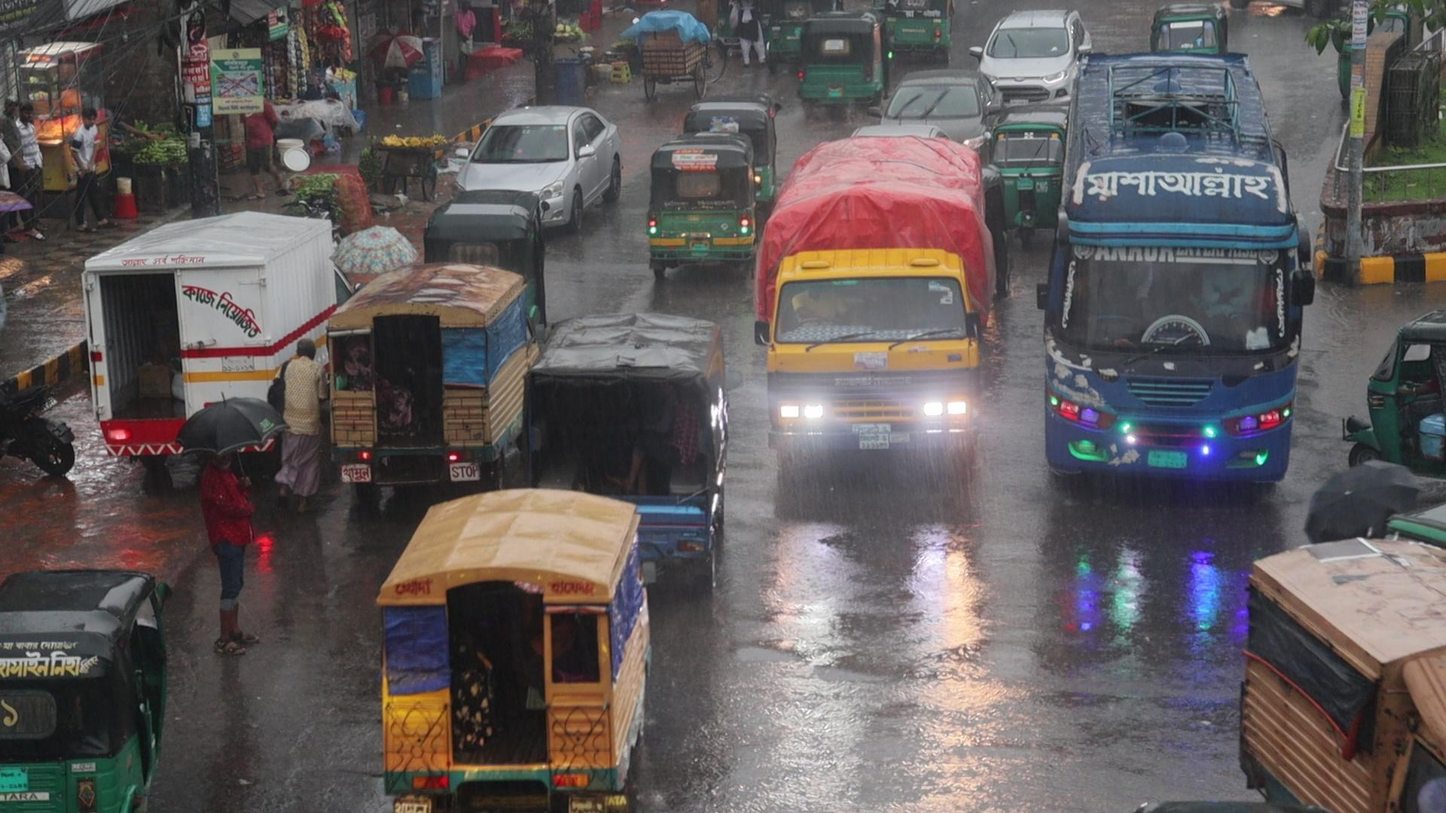Bus: (1035, 47, 1316, 499)
Car: (979, 7, 1083, 100)
Truck: (372, 483, 656, 813), (752, 135, 992, 507), (320, 257, 524, 484), (517, 308, 728, 522)
